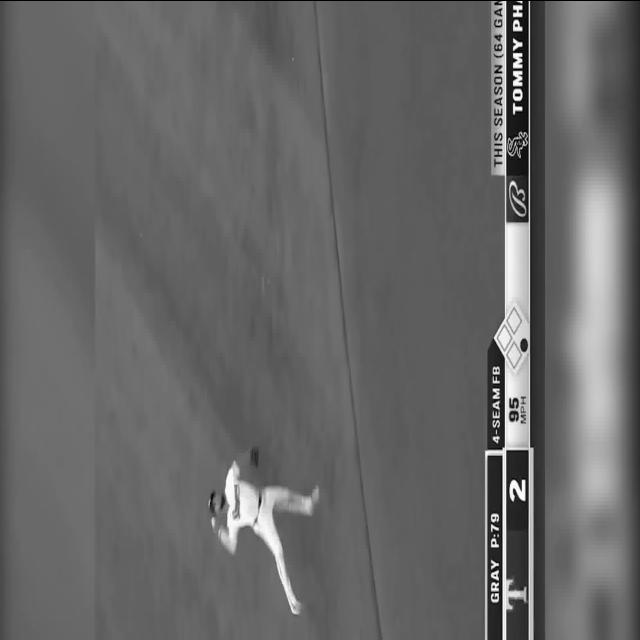baseball: (211, 516, 216, 528)
baseball_glove: (250, 446, 260, 468)
shoe: (310, 484, 320, 514), (290, 598, 302, 615)
